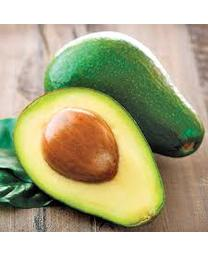avocado: (11, 85, 167, 229), (43, 33, 204, 160)
